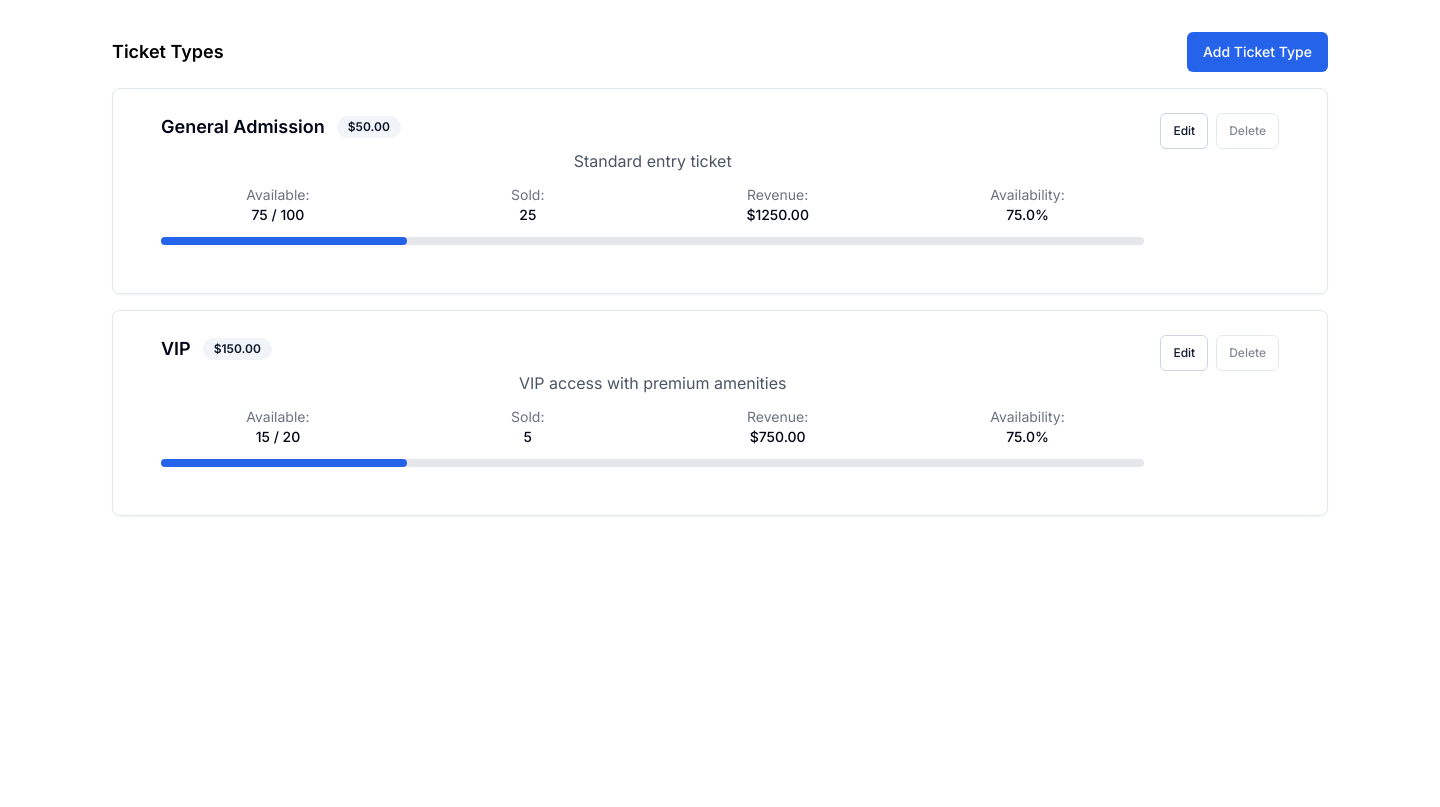
Test: TicketTypesSection › opens add ticket type form
This screenshot has width=1440, height=807.
What coordinates should you click on to do the following:
click the button "Add Ticket Type"
I would click on:
 (1258, 52)
Its box is [1187,32,1328,72].
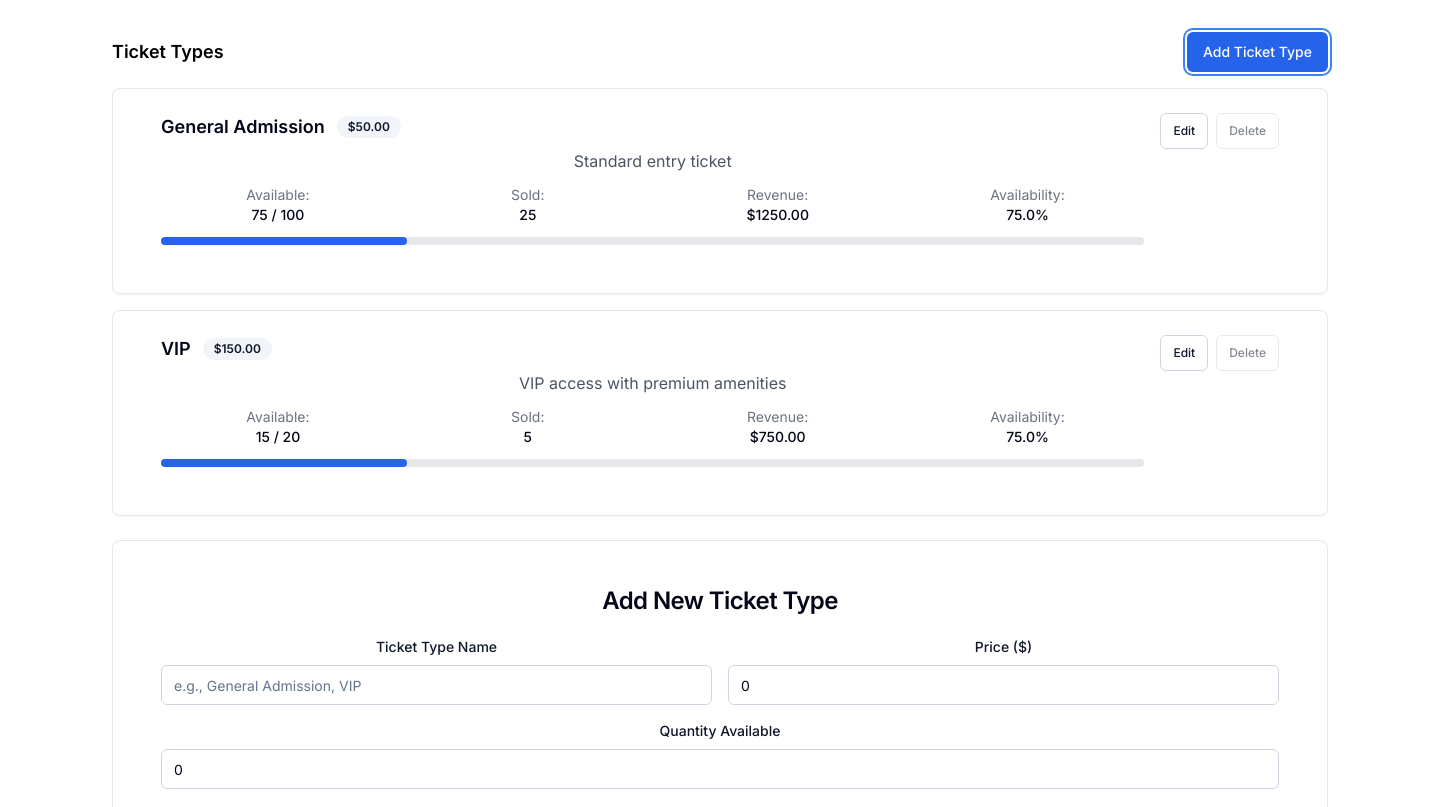
expect the heading "Add New Ticket Type" is shown: met, box [602,586,838,615]
expect the field labelled "Ticket Type Name" is shown: met, box [161,665,712,705]
expect the number field labelled "Price ($)" is shown: met, box [728,665,1279,705]
